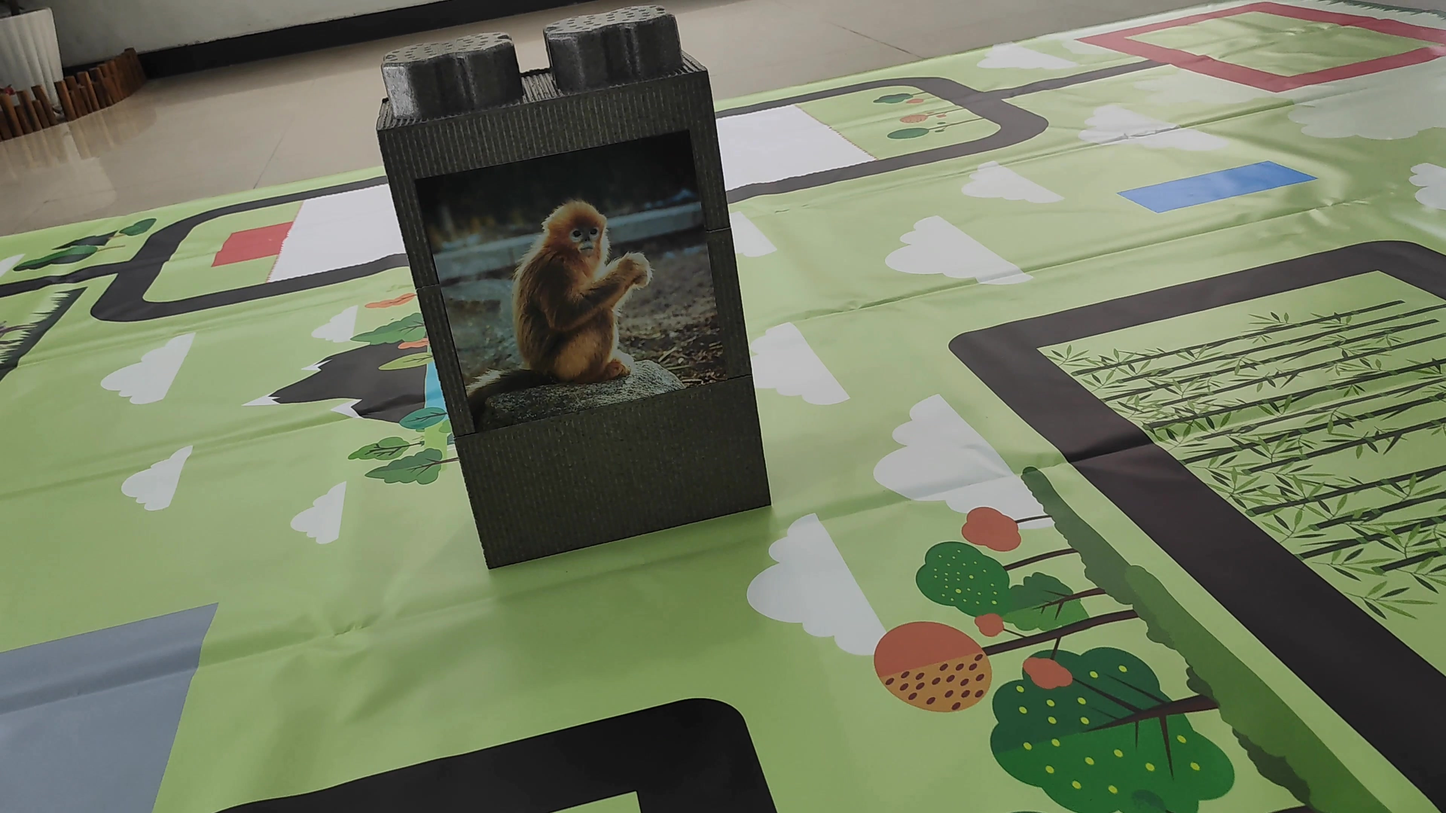monkey: (455, 185, 677, 435)
